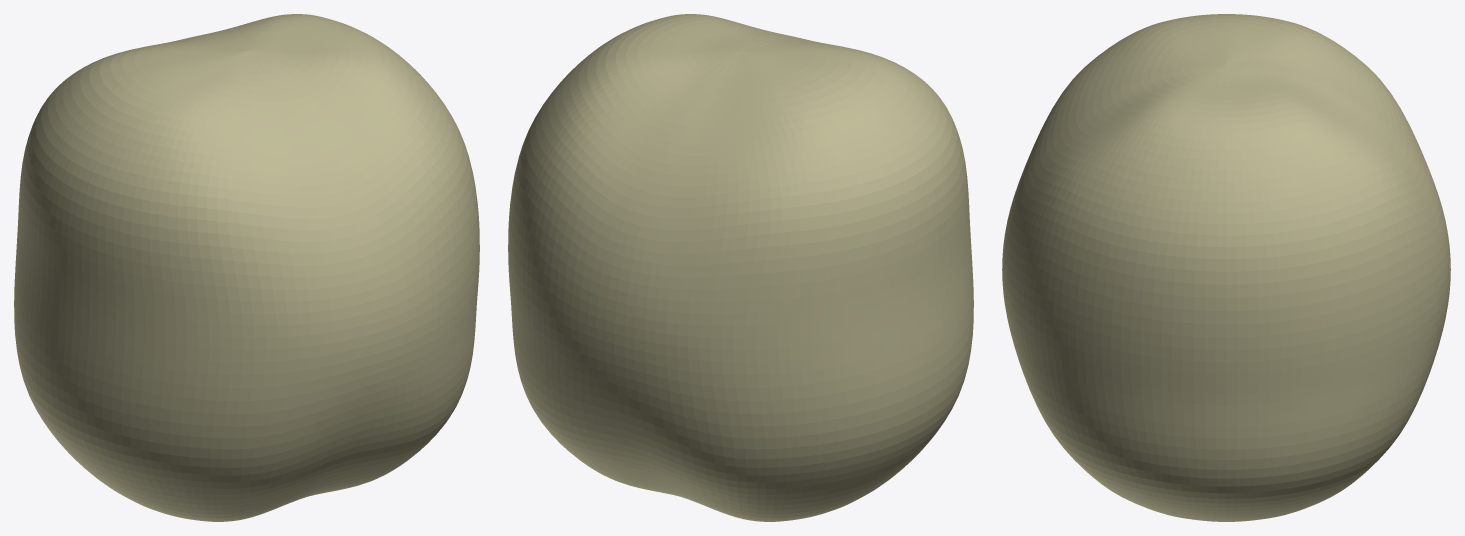
File: Pottasium_OxideFINAL.fbx
The picture shows the model from 3 angles, left to right: view 1: azimuth 30°, elevation 25°; view 2: azimuth 150°, elevation 25°; view 3: azimuth 270°, elevation 25°; orthographic projection. The views are drawn at different scales.
Parts seen in each view (by area): view 1: Sphere.520; view 2: Sphere.520; view 3: Sphere.520.
Boxes of the visible parts, left/top/right/bottom form: Sphere.520: left=14, top=14, right=479, bottom=521; Sphere.520: left=508, top=14, right=973, bottom=521; Sphere.520: left=1002, top=14, right=1450, bottom=521.
Size of the model in its own units: 29.19 by 29.79 by 28.85.
